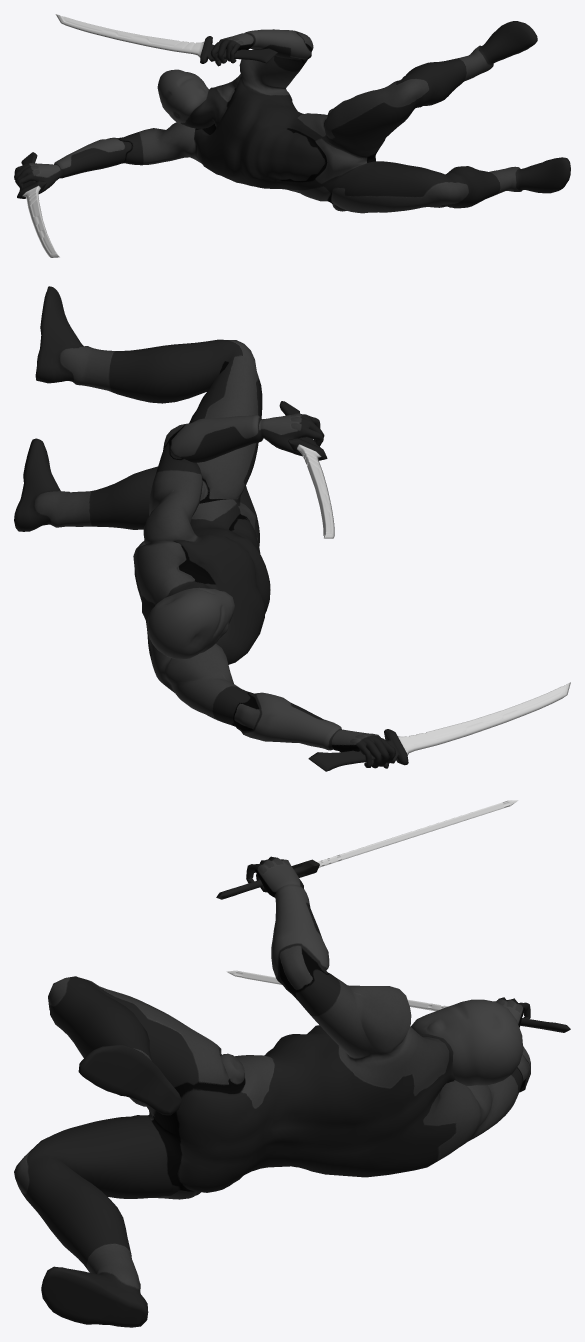
3 views of the same model, one above another, from view 1: azimuth 30°, elevation 25°; view 2: azimuth 150°, elevation 25°; view 3: azimuth 270°, elevation 25° (orthographic). The views are drawn at different scales.
Parts seen in each view (by area): view 1: Cyborg_Ninja_Killer, Sword_l, Sword_l001; view 2: Cyborg_Ninja_Killer, Sword_l001, Sword_l; view 3: Cyborg_Ninja_Killer, Sword_l, Sword_l001.
Part boxes in pixels (x1,y1,x2,y2): Cyborg_Ninja_Killer: (14, 21, 570, 213); Sword_l: (55, 14, 277, 63); Sword_l001: (17, 152, 59, 257); Cyborg_Ninja_Killer: (14, 286, 395, 768); Sword_l001: (308, 682, 570, 771); Sword_l: (279, 401, 334, 538); Cyborg_Ninja_Killer: (14, 856, 530, 1327); Sword_l: (216, 800, 518, 899); Sword_l001: (226, 970, 570, 1032).
Size of the model in its own units: 195 by 72.74 by 132.
2 materials, 2 textured.
